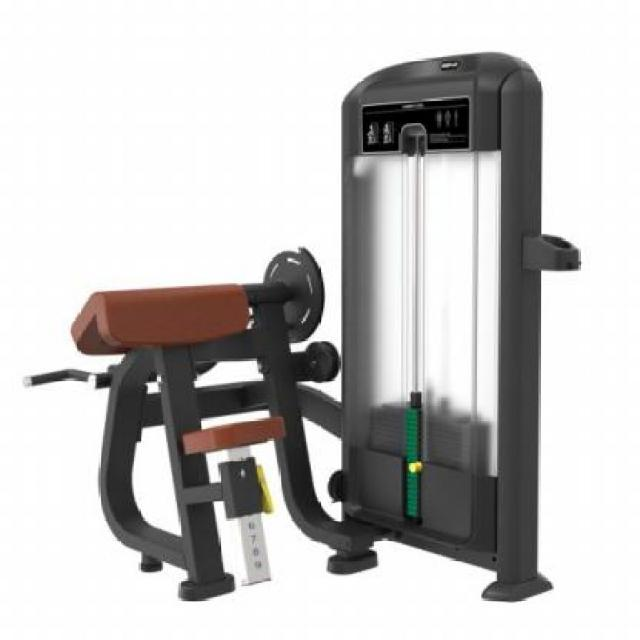arm curl machine: (22, 51, 580, 603)
